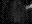person: (25, 4, 31, 11)
